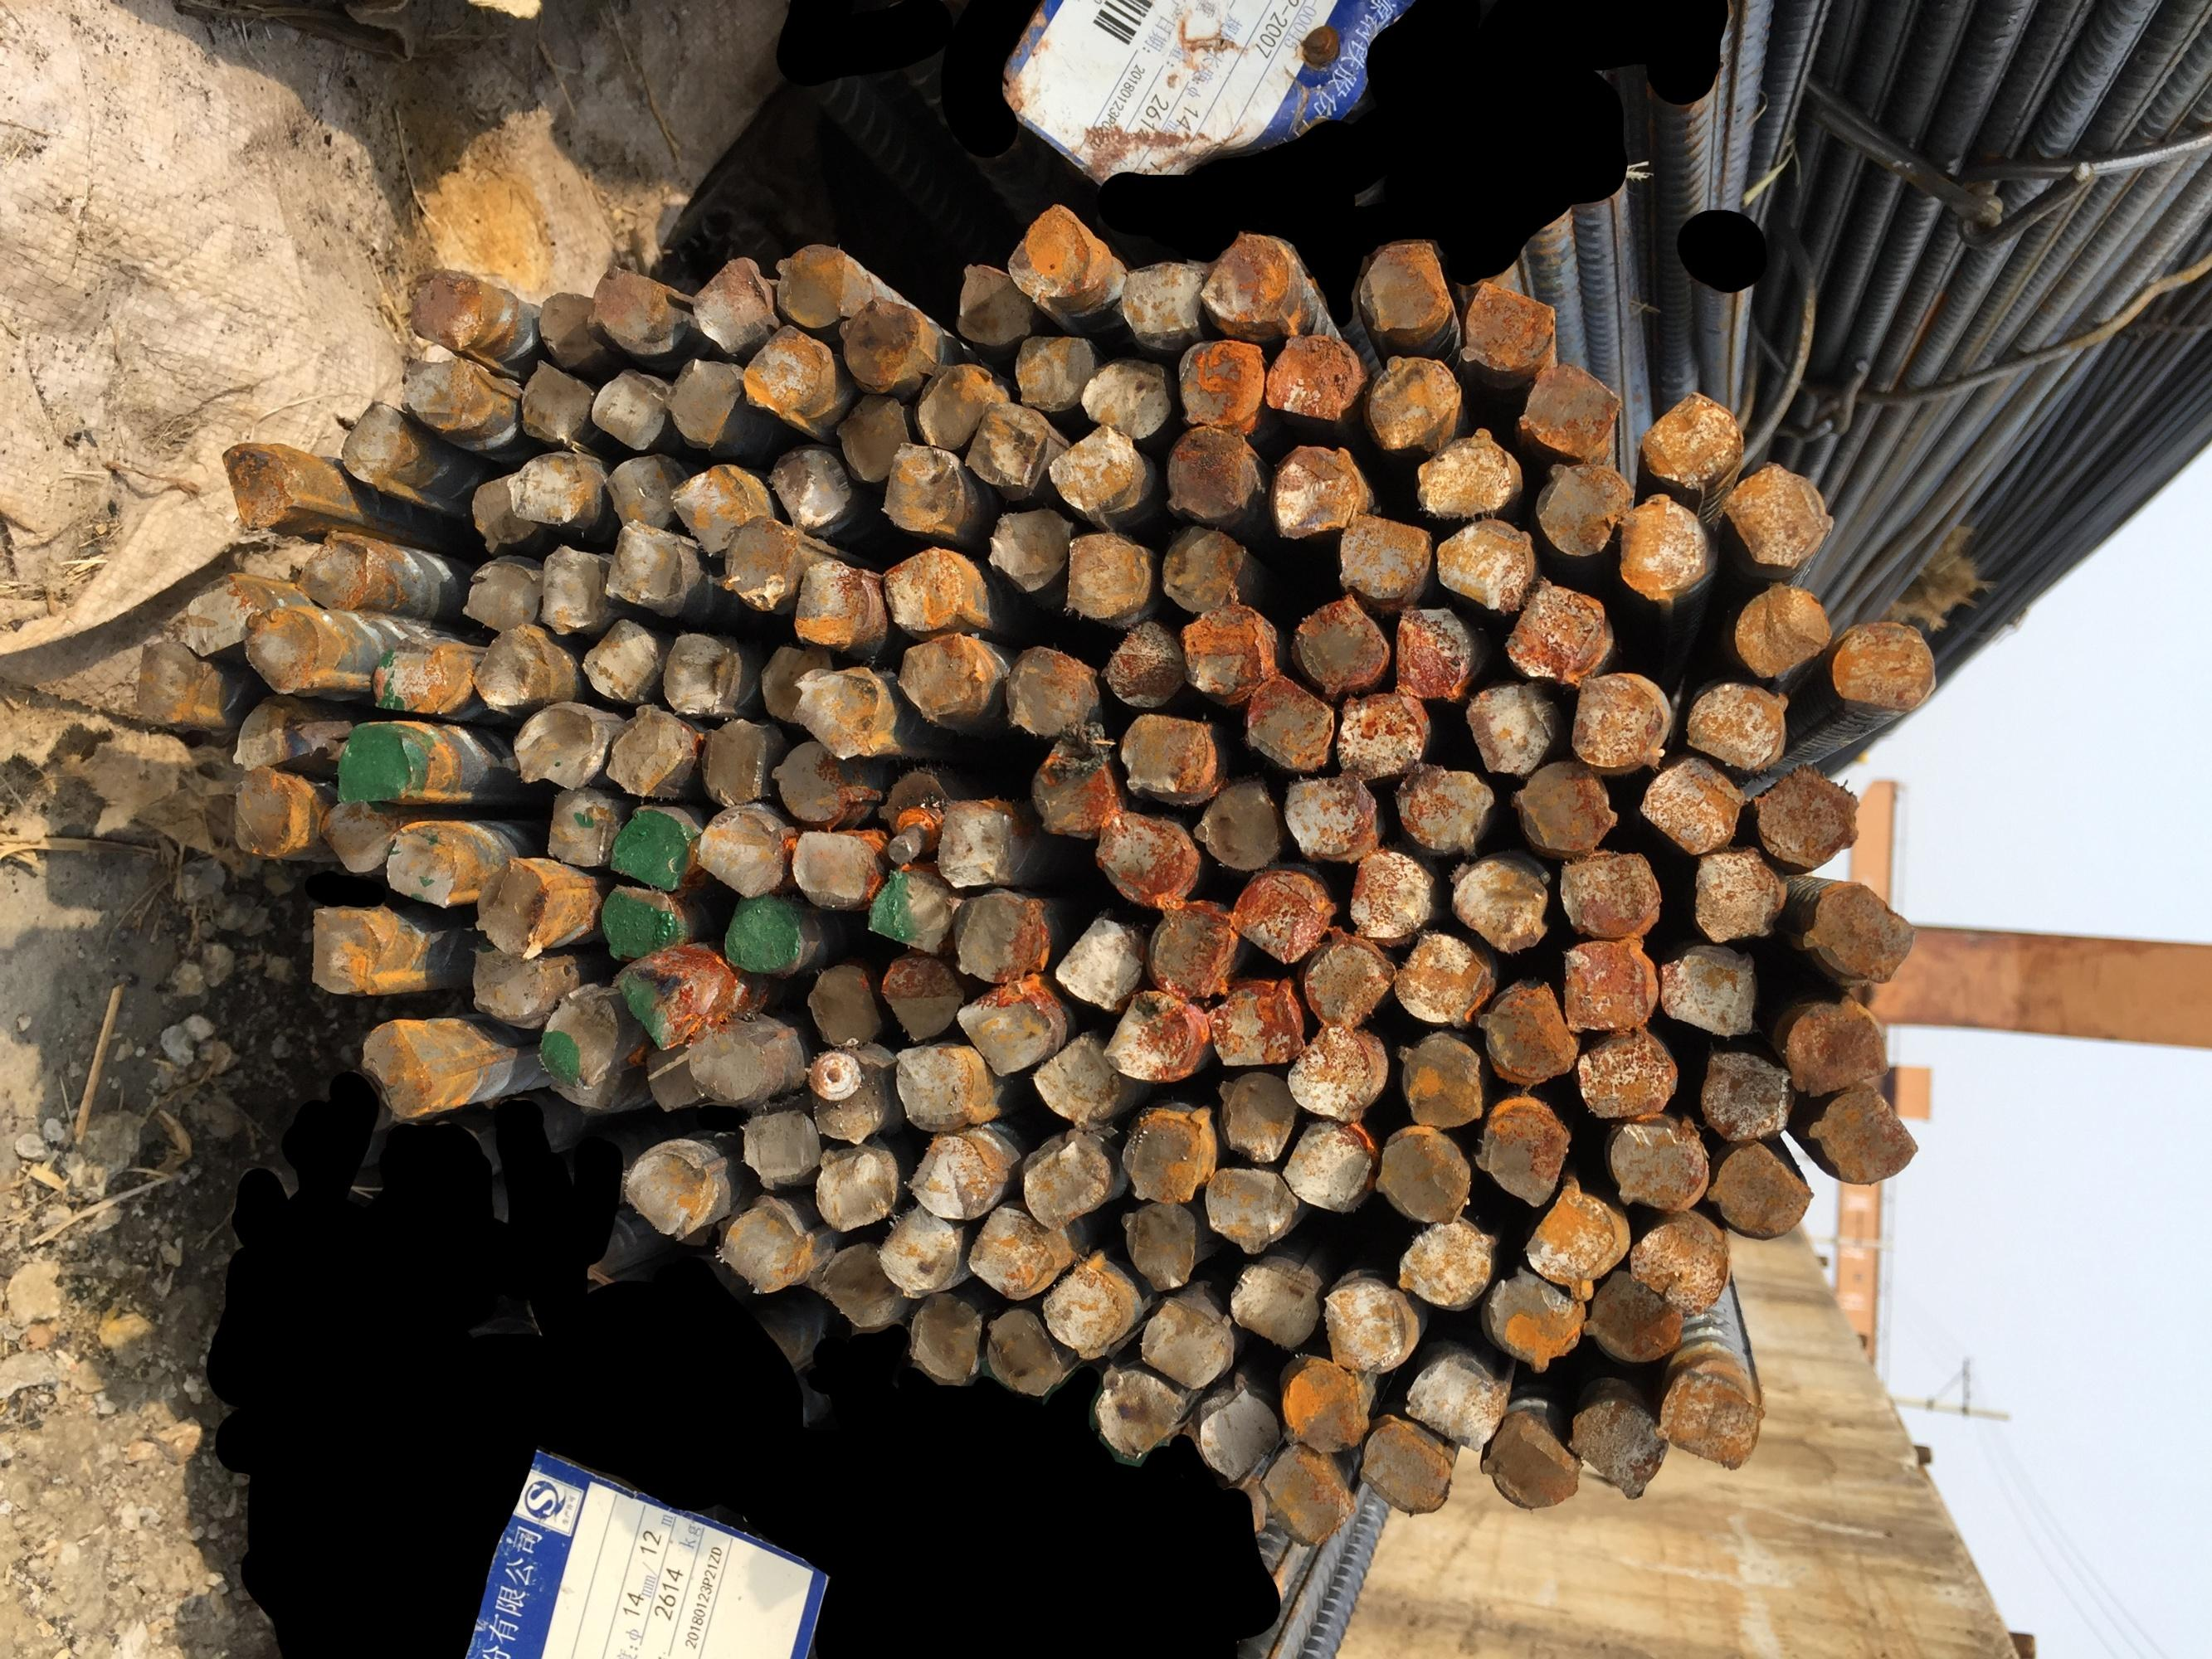bar: (1522, 1176, 1633, 1297), (1797, 875, 1917, 986), (1719, 455, 1834, 570), (1752, 756, 1865, 873), (1497, 572, 1616, 680), (1651, 1364, 1769, 1469), (1088, 805, 1201, 911), (1612, 490, 1713, 608), (1637, 380, 1745, 490), (1780, 993, 1896, 1094), (1706, 1136, 1815, 1244), (1480, 1265, 1590, 1371), (1576, 1265, 1691, 1364), (1504, 758, 1621, 856), (1806, 1086, 1923, 1183), (1389, 925, 1496, 1032), (1281, 1016, 1384, 1126), (1515, 361, 1626, 462), (1605, 1110, 1710, 1216), (1443, 850, 1550, 955), (1525, 455, 1633, 558), (1476, 1406, 1581, 1511), (1565, 1398, 1670, 1502), (1476, 981, 1581, 1086), (1255, 1441, 1358, 1547), (1227, 864, 1335, 965), (1028, 720, 1119, 840), (1475, 1096, 1572, 1208), (1550, 847, 1666, 939), (1626, 1216, 1731, 1319), (1640, 755, 1745, 857), (955, 972, 1055, 1080), (1400, 1349, 1503, 1452), (1236, 669, 1337, 774), (1684, 673, 1790, 772), (1389, 1023, 1485, 1133), (1388, 758, 1497, 854), (1292, 587, 1388, 697), (1410, 425, 1520, 521), (1457, 274, 1558, 376), (1731, 575, 1832, 678), (1555, 934, 1659, 1033), (1048, 413, 1147, 518), (1830, 612, 1937, 709), (1264, 322, 1365, 423), (1361, 350, 1459, 455), (1020, 1124, 1114, 1232), (1314, 1279, 1422, 1373), (1572, 1028, 1682, 1121), (1001, 643, 1102, 742), (1356, 1417, 1457, 1516), (1163, 416, 1259, 521), (953, 887, 1055, 985), (1175, 605, 1276, 702), (1374, 1126, 1476, 1222), (1222, 1256, 1327, 1351), (1654, 945, 1759, 1039), (1328, 509, 1435, 601), (1459, 678, 1557, 777), (1696, 1042, 1792, 1143), (1119, 706, 1220, 802), (1433, 518, 1534, 613), (1569, 669, 1665, 770), (1098, 988, 1201, 1082), (1199, 223, 1293, 326), (1689, 842, 1783, 945), (1051, 910, 1143, 1014), (1143, 897, 1236, 1002), (966, 1202, 1062, 1302), (1340, 843, 1436, 943), (587, 260, 682, 361), (736, 321, 830, 422), (1279, 1114, 1374, 1215), (1278, 769, 1379, 863), (1004, 197, 1096, 300), (837, 291, 927, 396), (1203, 976, 1307, 1066), (1058, 530, 1156, 626), (1150, 519, 1248, 615), (1354, 239, 1452, 335), (713, 1202, 812, 1297), (689, 805, 788, 899), (603, 519, 702, 613), (1201, 1162, 1300, 1256), (1299, 934, 1398, 1028), (1335, 685, 1429, 784), (1093, 1363, 1185, 1464), (1137, 1291, 1229, 1392), (877, 538, 969, 640), (533, 985, 621, 1091), (1267, 443, 1363, 538), (689, 253, 777, 356), (788, 664, 882, 760), (1278, 1358, 1370, 1455), (1187, 777, 1285, 870), (1077, 350, 1177, 441), (1175, 329, 1265, 429), (502, 702, 603, 791), (603, 701, 692, 802), (1391, 1222, 1494, 1309), (619, 1147, 713, 1241), (1027, 1028, 1121, 1122), (786, 821, 882, 913), (863, 863, 959, 955), (622, 950, 713, 1047), (903, 1124, 994, 1222), (786, 552, 872, 655), (1039, 1258, 1124, 1361), (1388, 599, 1469, 706), (666, 462, 755, 559), (875, 1199, 962, 1298), (828, 385, 913, 486), (957, 399, 1049, 491), (462, 622, 558, 711), (603, 800, 692, 896), (1119, 1108, 1206, 1206), (357, 1019, 438, 1124), (762, 441, 854, 532), (875, 439, 964, 533), (659, 354, 746, 450), (879, 948, 966, 1044), (1194, 1387, 1281, 1483), (716, 512, 797, 615), (981, 504, 1072, 594), (807, 1141, 899, 1230), (816, 1237, 903, 1331), (887, 1039, 974, 1133), (659, 626, 743, 723), (805, 1046, 887, 1145), (934, 789, 1014, 890), (913, 359, 1004, 448), (1211, 1070, 1299, 1162), (870, 765, 955, 859), (472, 850, 549, 955), (980, 1300, 1062, 1398), (713, 890, 805, 976), (1103, 619, 1189, 711), (892, 633, 978, 723), (1119, 1194, 1198, 1291), (1114, 258, 1206, 340), (213, 436, 293, 530), (950, 261, 1037, 347), (586, 364, 669, 453), (683, 1021, 774, 1103), (802, 958, 884, 1049), (1009, 331, 1096, 415), (335, 399, 417, 488), (769, 735, 851, 824), (303, 904, 383, 995), (241, 605, 321, 695), (516, 354, 594, 446), (692, 713, 769, 807), (535, 540, 610, 636), (772, 235, 847, 331), (736, 1105, 823, 1187), (331, 725, 418, 807), (908, 1290, 983, 1384), (502, 450, 591, 528), (577, 613, 655, 702), (757, 640, 835, 728), (227, 701, 319, 774), (598, 448, 678, 532), (397, 349, 476, 434), (406, 263, 485, 349), (178, 572, 254, 659), (225, 765, 296, 857), (457, 554, 539, 634), (382, 826, 457, 913), (600, 877, 675, 964), (540, 781, 610, 873), (465, 945, 546, 1025), (366, 636, 450, 713), (295, 528, 371, 610), (464, 474, 540, 554), (317, 795, 392, 875), (535, 288, 607, 369), (132, 638, 197, 725), (641, 1039, 704, 1115), (547, 1068, 628, 1115), (786, 1225, 844, 1290)
